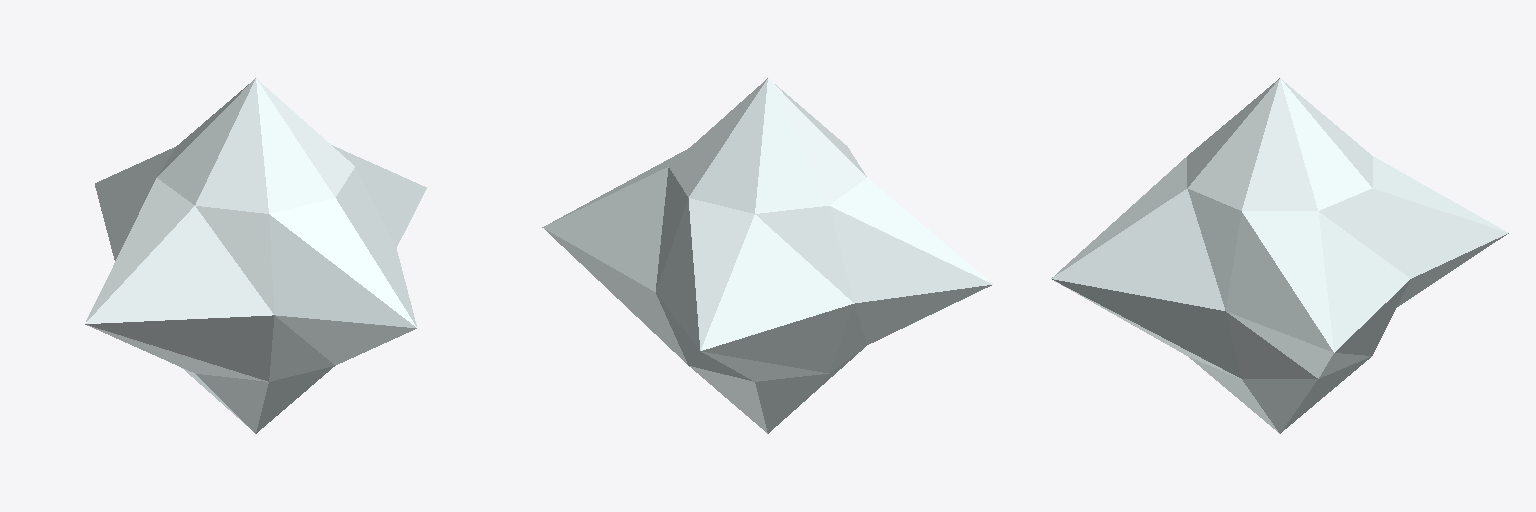
3 views of the same model, side by side, from view 1: azimuth 30°, elevation 25°; view 2: azimuth 150°, elevation 25°; view 3: azimuth 270°, elevation 25° (orthographic).
Visible parts, largest first — view 1: sphere; view 2: sphere; view 3: sphere.
Part boxes in pixels (bbox=[...]): sphere: bbox=[85, 78, 426, 433]; sphere: bbox=[542, 78, 993, 433]; sphere: bbox=[1051, 78, 1508, 433].
Size of the model in its own units: 0.875 by 0.75 by 0.875.
Materials: 1 (1 with a texture image).